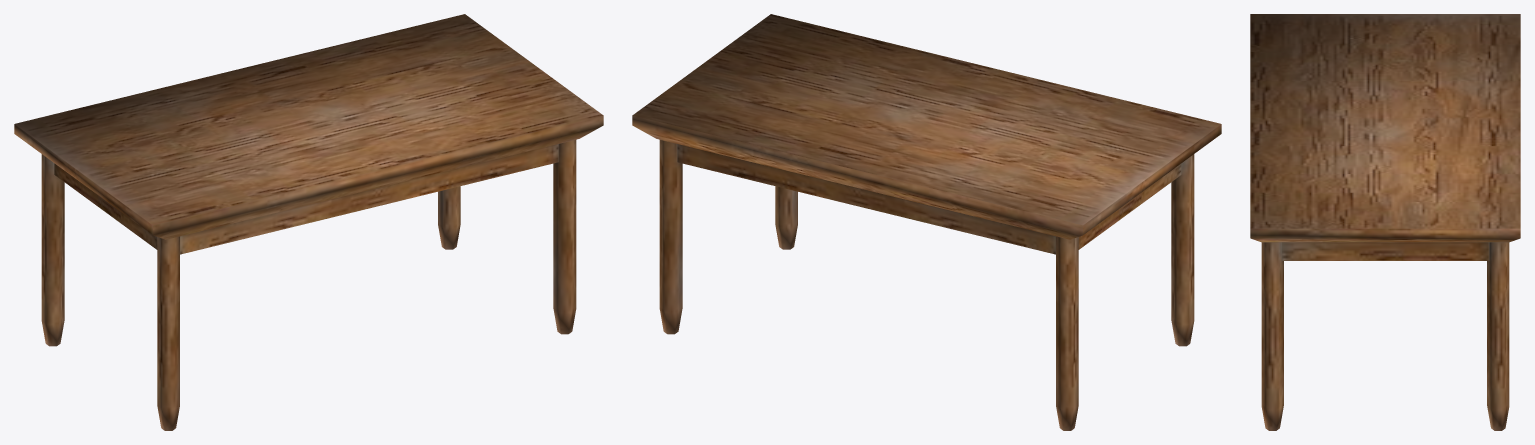
File: mesa.glb
3 views of the same model, side by side, from view 1: azimuth 30°, elevation 25°; view 2: azimuth 150°, elevation 25°; view 3: azimuth 270°, elevation 25° (orthographic). The views are drawn at different scales.
Visible parts, largest first — view 1: SM_Table__0; view 2: SM_Table__0; view 3: SM_Table__0.
Boxes of the visible parts, x1=… form: SM_Table__0: x1=14, y1=14, x2=603, y2=430; SM_Table__0: x1=632, y1=14, x2=1221, y2=430; SM_Table__0: x1=1250, y1=14, x2=1520, y2=430.
Bounding box in the file's own units: 2.09 × 0.9641 × 1.11.
Materials: 1 (1 with a texture image).
